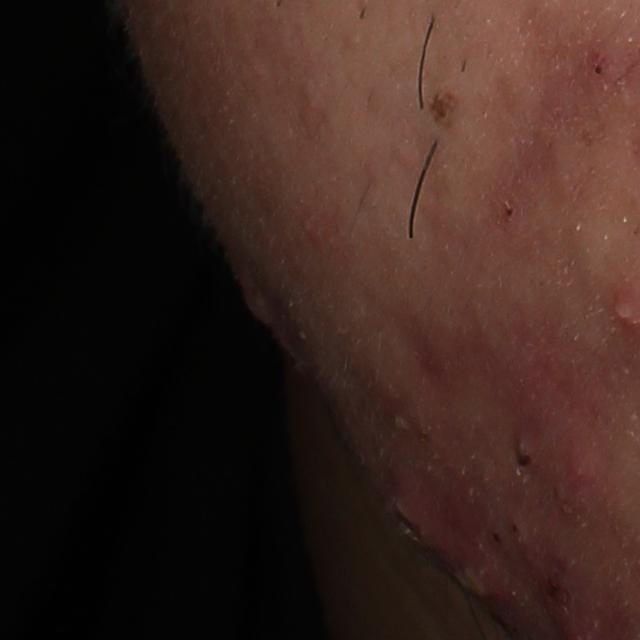comedo: (514, 442, 542, 469), (499, 202, 521, 224), (589, 58, 608, 80)
nevus: (418, 84, 462, 129)
nodule: (386, 463, 515, 618)
